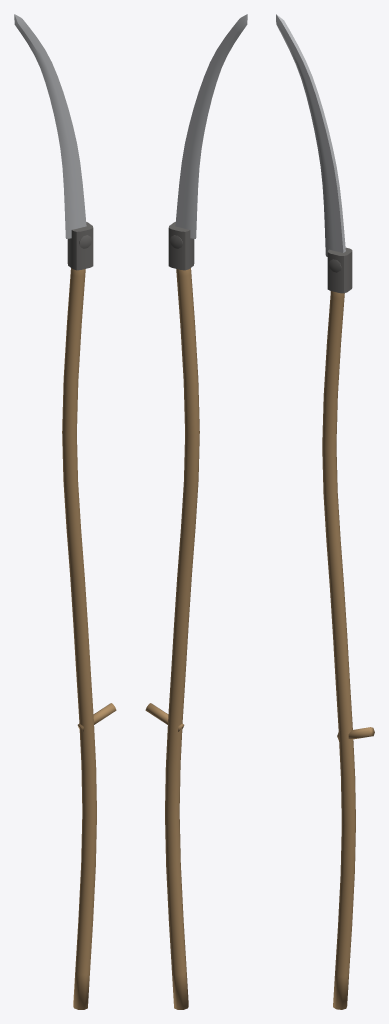
File: switchscythe.glb
3 views of the same model, side by side, from view 1: azimuth 30°, elevation 25°; view 2: azimuth 150°, elevation 25°; view 3: azimuth 330°, elevation 25° (orthographic). The views are drawn at different scales.
Visible parts, largest first — view 1: switchscythe; view 2: switchscythe; view 3: switchscythe.
Boxes of the visible parts, box(x1,y1,x2,y2) form: switchscythe: box(14, 14, 116, 1009); switchscythe: box(145, 14, 247, 1009); switchscythe: box(276, 14, 374, 1009).
Size of the model in its own units: 0.5487 by 5.25 by 0.12.
